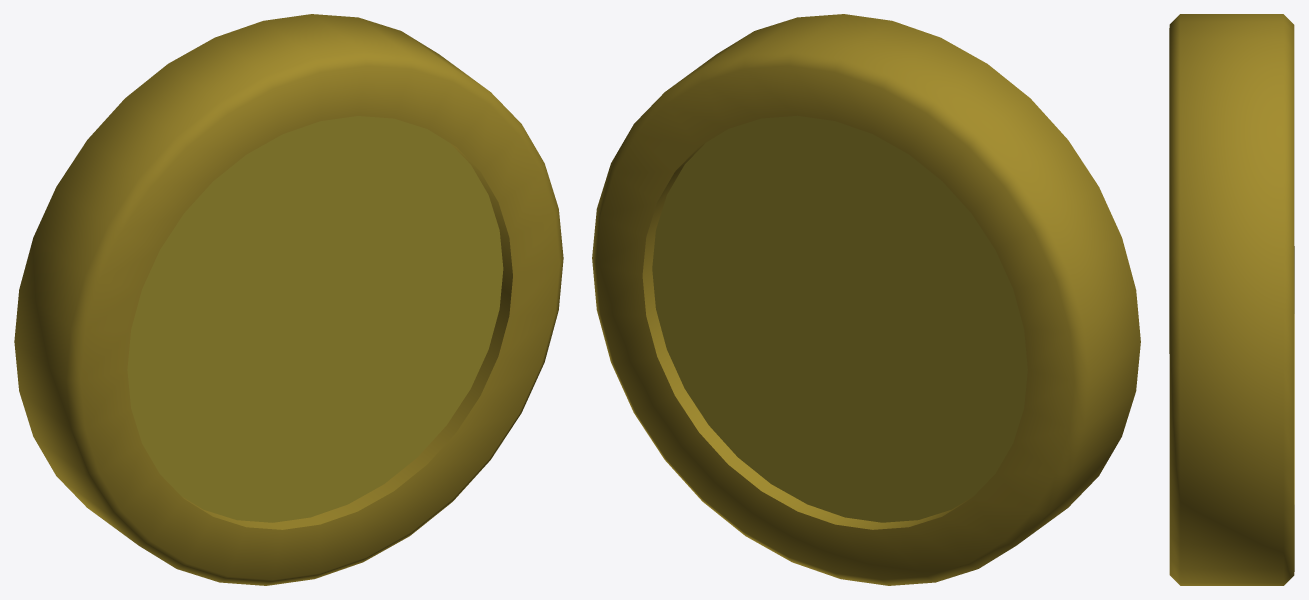
Rendered from Coin_Simple.fbx.
The picture shows the model from 3 angles, left to right: view 1: azimuth 30°, elevation 25°; view 2: azimuth 150°, elevation 25°; view 3: azimuth 270°, elevation 25°; orthographic projection.
Parts seen in each view (by area): view 1: Coin_Simple; view 2: Coin_Simple; view 3: Coin_Simple.
Part boxes in pixels (left/top/right/bottom): Coin_Simple: left=14, top=14, right=563, bottom=585; Coin_Simple: left=592, top=14, right=1140, bottom=585; Coin_Simple: left=1169, top=14, right=1294, bottom=585.
Size of the model in its own units: 56.41 by 56.41 by 12.33.
